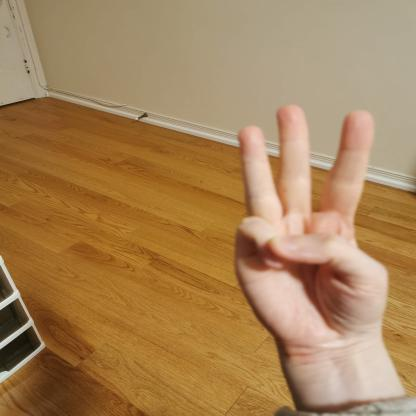six: (229, 100, 401, 364)
